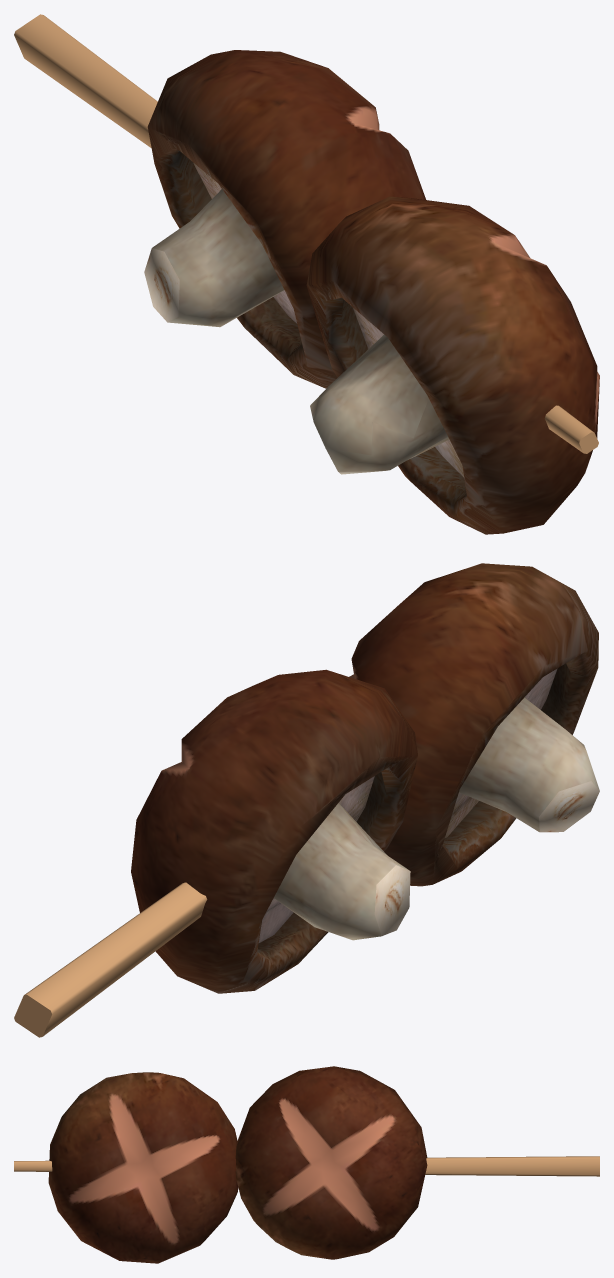
Rendered from ref_bbqmushroom.glb.
3 views of the same model, one above another, from view 1: azimuth 30°, elevation 25°; view 2: azimuth 150°, elevation 25°; view 3: azimuth 270°, elevation 25° (orthographic). The views are drawn at different scales.
Parts seen in each view (by area): view 1: ref_bbqmushroom; view 2: ref_bbqmushroom; view 3: ref_bbqmushroom.
Part boxes in pixels (left/top/right/bottom): ref_bbqmushroom: left=14, top=14, right=599, bottom=534; ref_bbqmushroom: left=14, top=563, right=599, bottom=1037; ref_bbqmushroom: left=14, top=1066, right=599, bottom=1263.
Bounding box in the file's own units: 0.2807 × 0.3305 × 1.
1 material, 1 textured.
